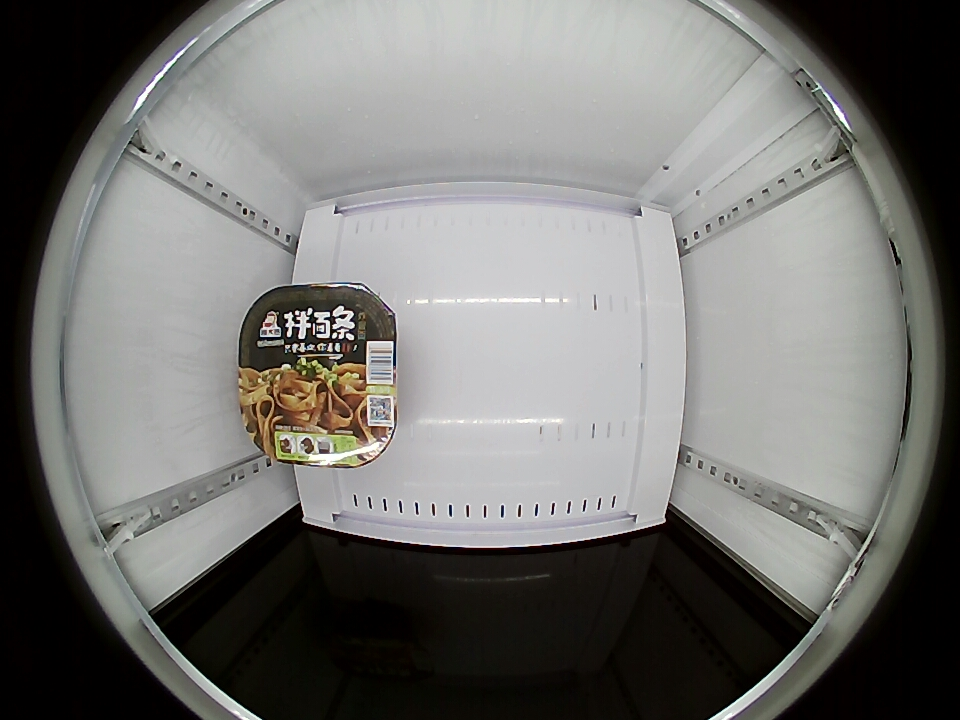gudasao: (237, 282, 398, 469)
